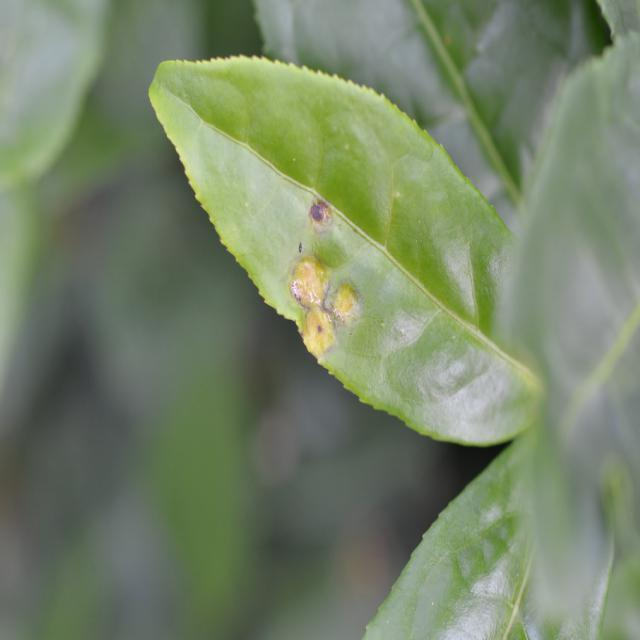Tea cake: (292, 253, 361, 345), (310, 190, 343, 237)
